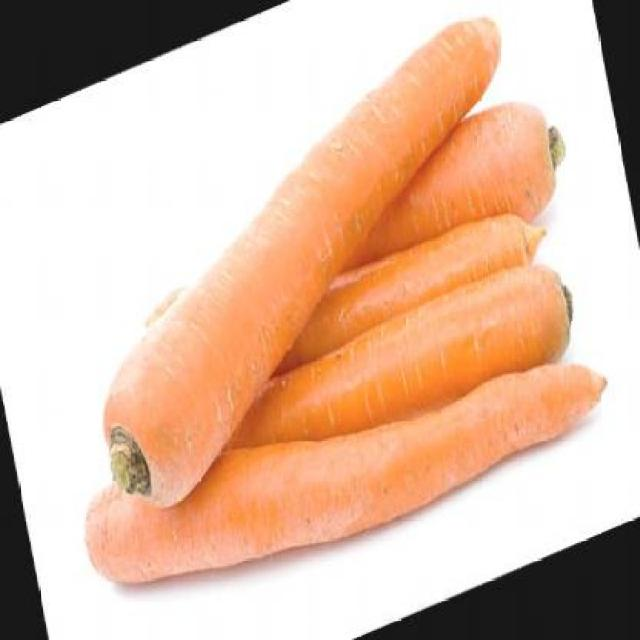carrot: (57, 4, 560, 528), (75, 278, 617, 639), (208, 248, 583, 502), (257, 189, 551, 377), (444, 88, 554, 202)
